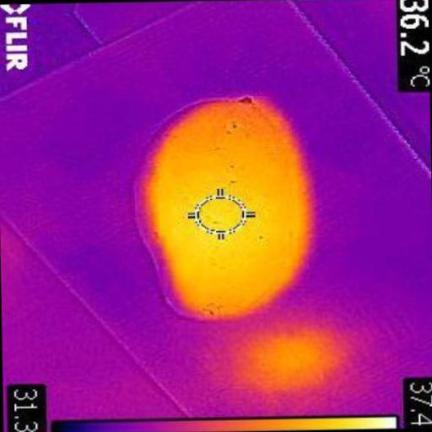mango: (138, 94, 313, 318)
